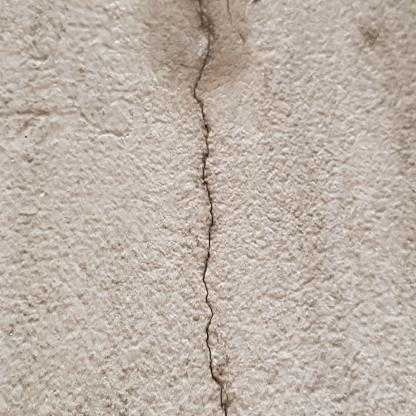crack: (194, 0, 227, 416)
